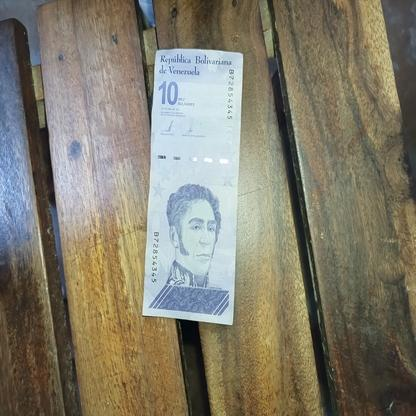ten-front-vef: (141, 48, 245, 326)
